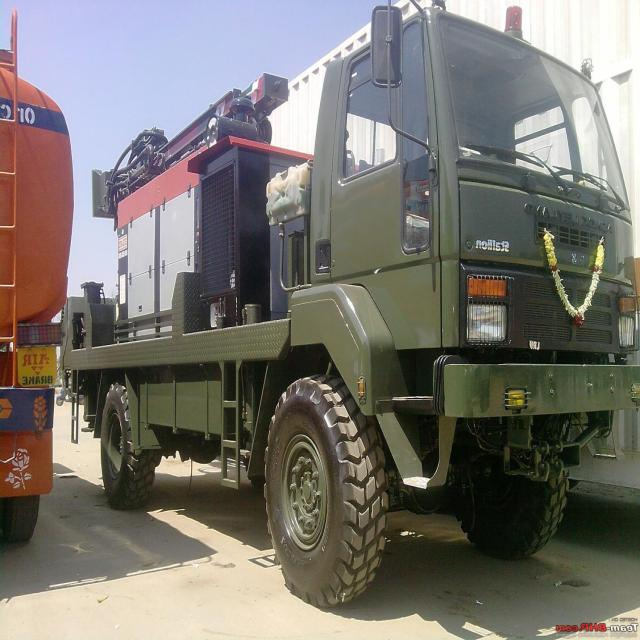truck: (61, 5, 640, 606)
